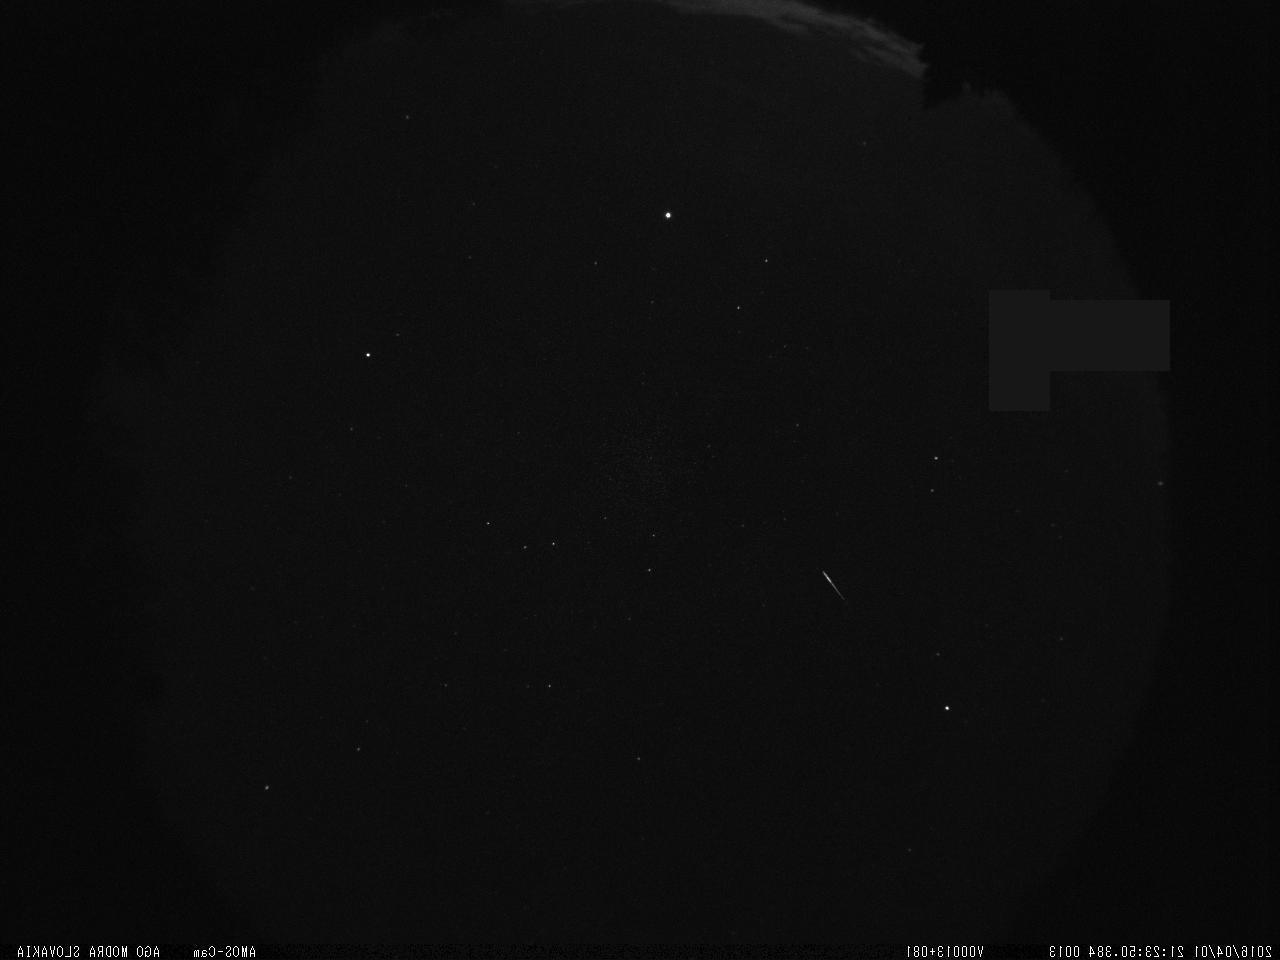meteor: (809, 564, 856, 608)
